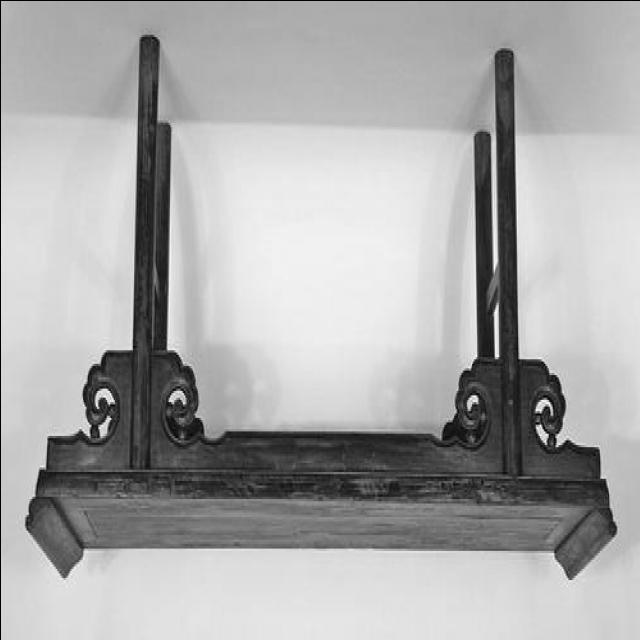table: (22, 37, 616, 591)
